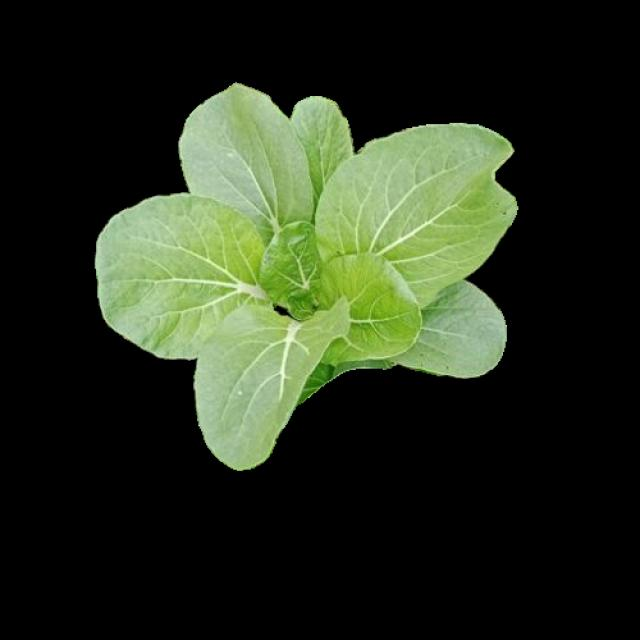healthy: (95, 82, 513, 463)
mature: (97, 84, 516, 466)
